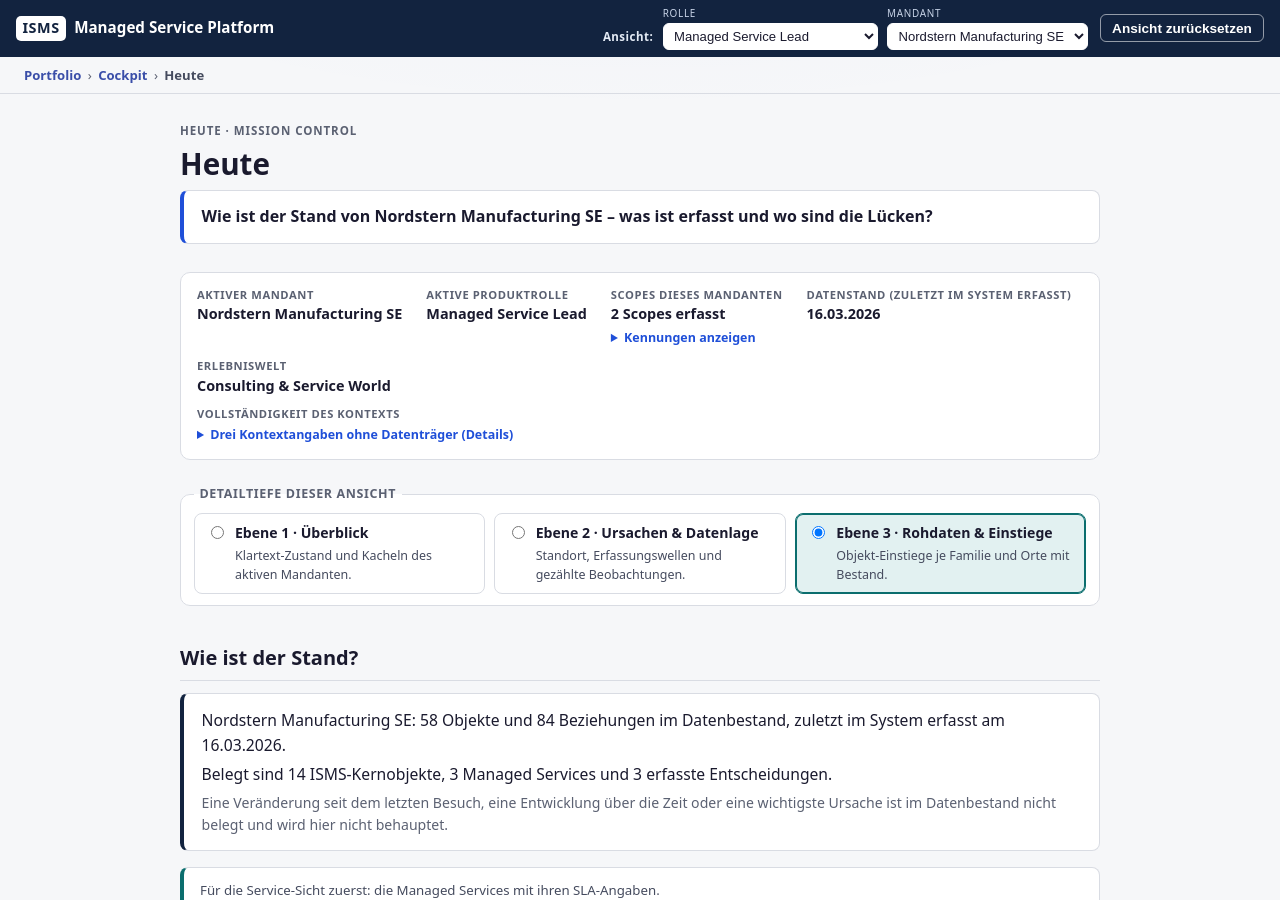
Scenario: Mandantenwechsel ist eine angekündigte Kontextänderung (Dok. 06 CROSS-TENANT-SCHUTZ) › Abbrechen verwirft den Wechselwunsch vollständig
Select "GreenGrid Energy Services" in the dropdown named "Ansicht: Mandant": (988, 37) [887,23,1088,50]
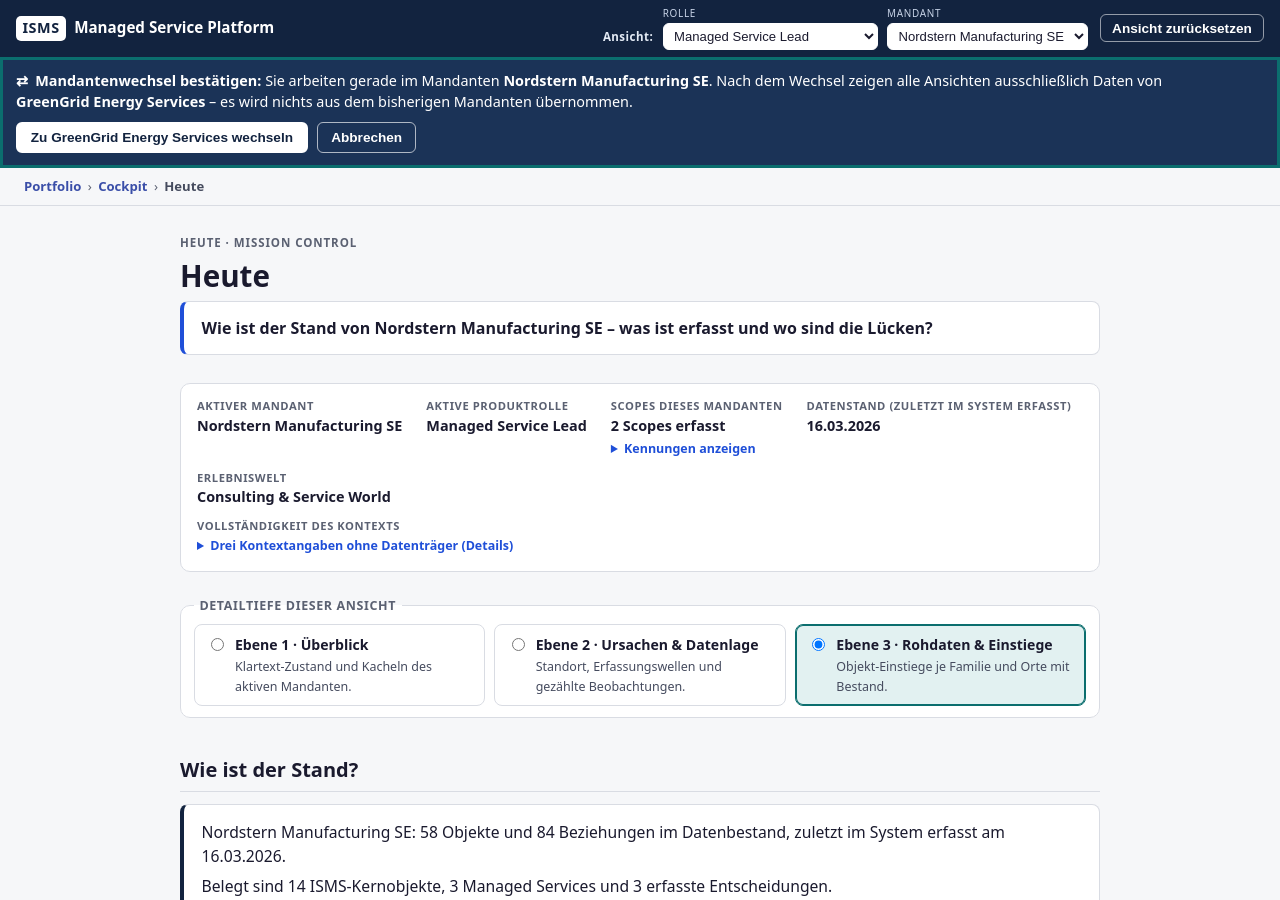
Click the button "Abbrechen": (367, 138) [317,122,416,153]
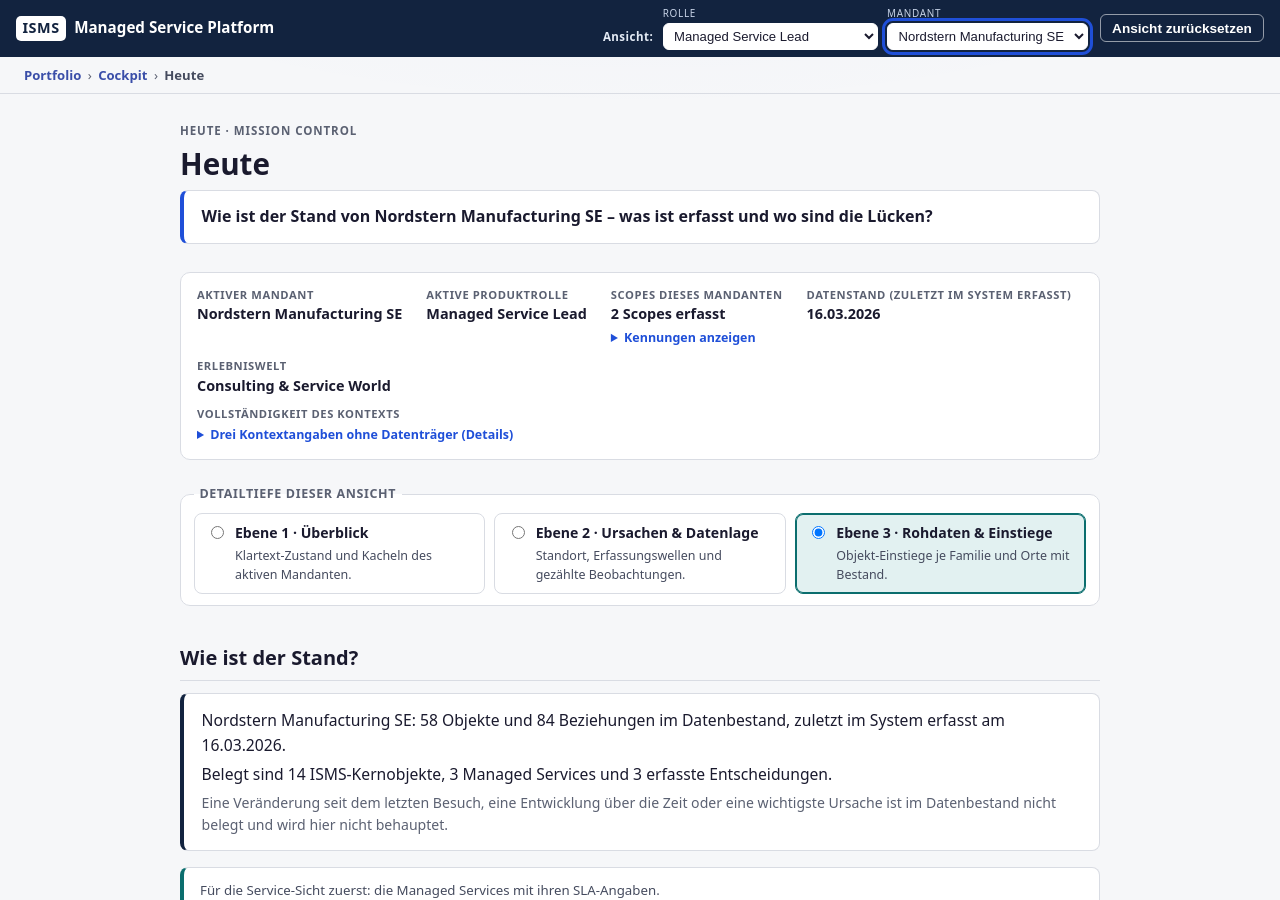
Expected: the element that starts with "Heute · Mission Control" shows "Nordstern Manufacturing SE", [374,205,603,227]
Expected: the text "Mandantenwechsel bestätigen" is gone
